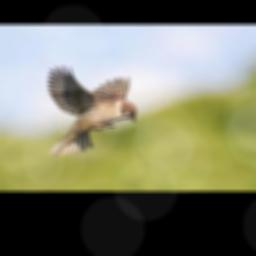Sparrow: (47, 65, 137, 158)
